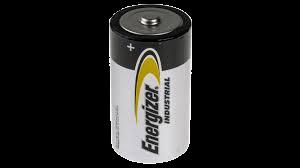Battery: (109, 4, 193, 164)
